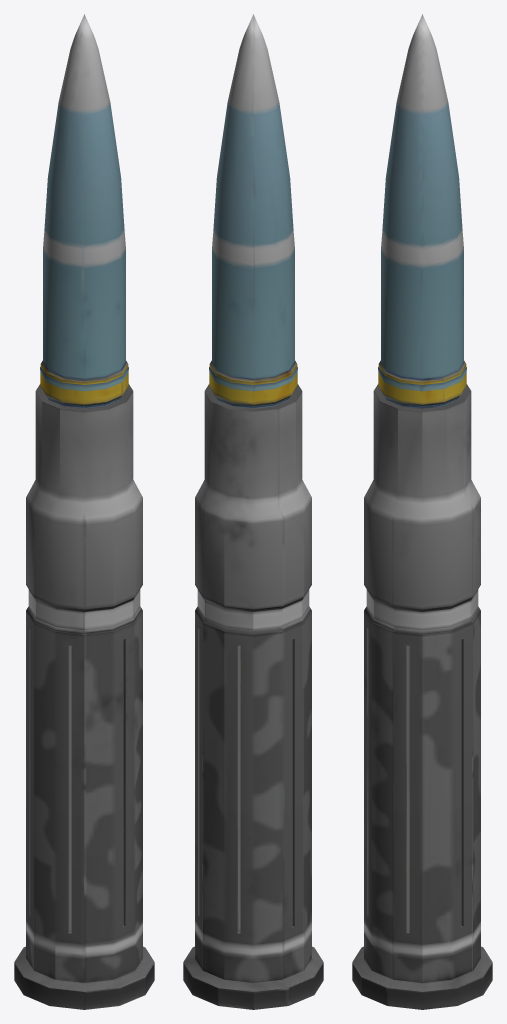
Rendered from Shells.fbx.
3 renders of one model, left to right at view 1: azimuth 30°, elevation 25°; view 2: azimuth 150°, elevation 25°; view 3: azimuth 270°, elevation 25°, orthographic.
Parts seen in each view (by area): view 1: Shell-Cover, Shell-1, Shell-2; view 2: Shell-Cover, Shell-1, Shell-2; view 3: Shell-Cover, Shell-1, Shell-2.
Part boxes in pixels (<box>): Shell-Cover: <box>14,384,154,1009</box>; Shell-1: <box>40,14,128,407</box>; Shell-2: <box>40,360,128,405</box>; Shell-Cover: <box>183,384,323,1009</box>; Shell-1: <box>209,14,297,407</box>; Shell-2: <box>209,360,297,405</box>; Shell-Cover: <box>352,384,492,1009</box>; Shell-1: <box>378,14,466,407</box>; Shell-2: <box>378,360,466,405</box>.
Bounding box in the file's own units: 0.1912 × 1.45 × 0.1912.
Materials: 1 (1 with a texture image).
